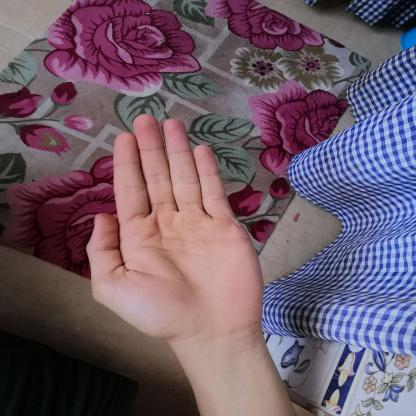SEEN: (74, 107, 275, 355)
